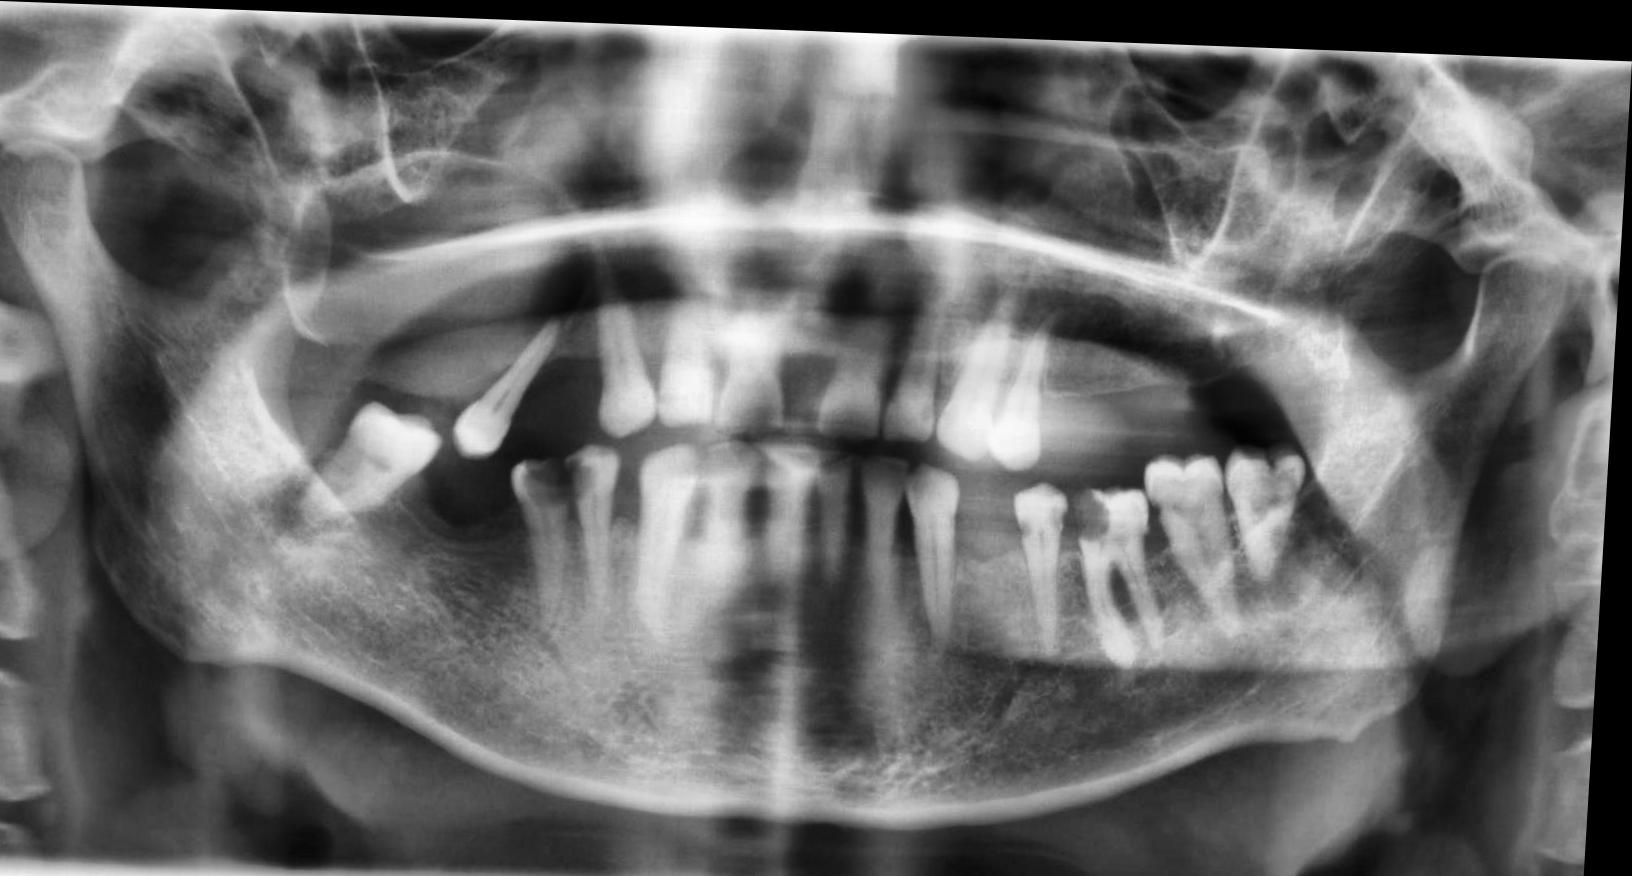okc: (275, 141, 610, 398)
